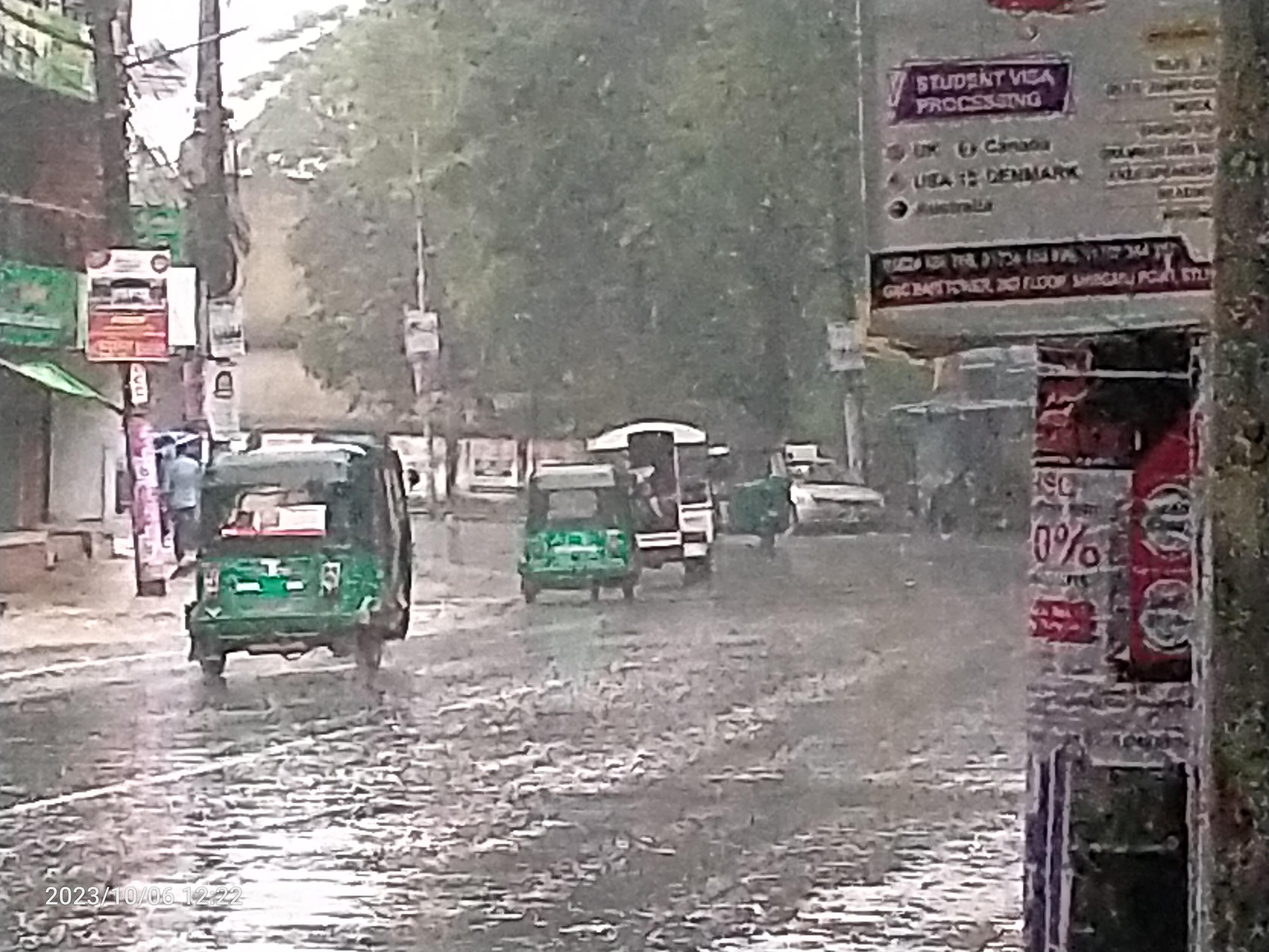Car: (627, 411, 733, 588), (793, 442, 894, 539)
